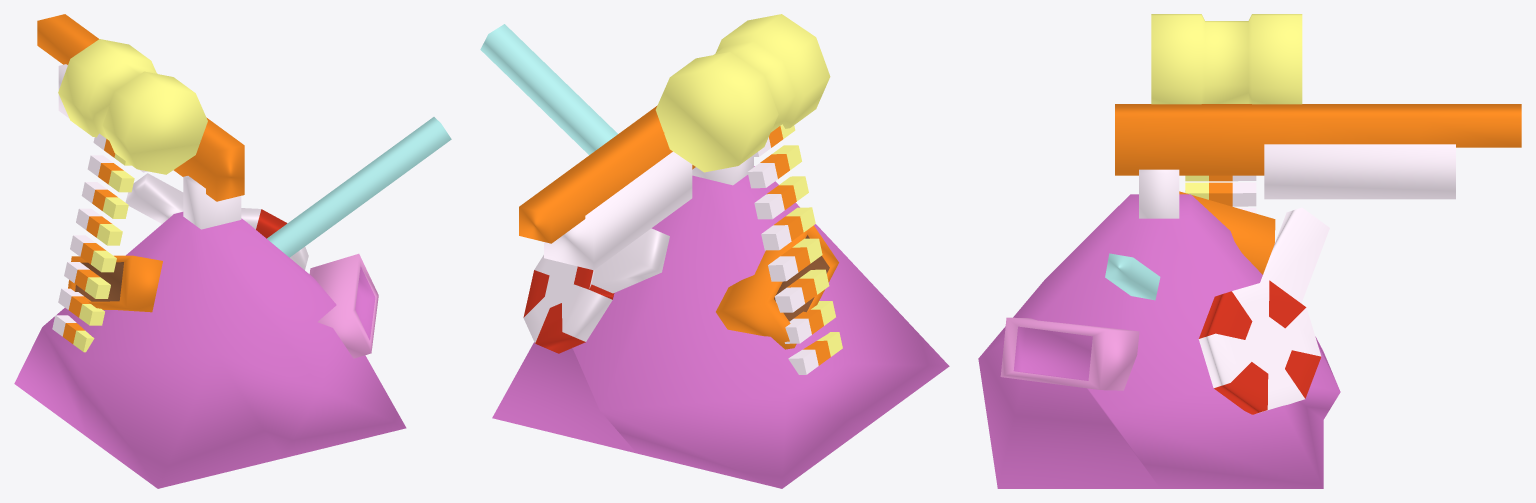
Rendered from candyCornMG.glb.
The picture shows the model from 3 angles, left to right: view 1: azimuth 30°, elevation 25°; view 2: azimuth 150°, elevation 25°; view 3: azimuth 270°, elevation 25°; orthographic projection. The views are drawn at different scales.
Visible parts, largest first — view 1: candyMountain, gunDrum, candyCornAmmo, stick, gunBase, pinkBrick, orangeBrick, lolipop, gunConnector; view 2: candyMountain, gunDrum, candyCornAmmo, lolipop, gunBase, gunGrip, stick, orangeBrick, gunConnector; view 3: candyMountain, gunBase, lolipop, gunDrum, gunGrip, pinkBrick, orangeBrick, gunConnector, candyCornAmmo, stick.
Boxes of the visible parts, x1,y1,x2,y2 form: candyMountain: (14,212,406,488); gunDrum: (58,39,207,174); candyCornAmmo: (52,133,134,352); stick: (267,117,451,257); gunBase: (37,14,244,201); pinkBrick: (309,253,378,358); orangeBrick: (68,255,162,312); lolipop: (125,173,308,269); gunConnector: (183,176,241,229); candyMountain: (492,166,949,488); gunDrum: (655,14,830,172); candyCornAmmo: (747,124,842,374); lolipop: (523,228,669,353); gunBase: (519,105,695,243); gunGrip: (544,151,692,270); stick: (480,24,617,155); orangeBrick: (716,225,838,349); gunConnector: (692,157,753,185); candyMountain: (978,194,1340,488); gunBase: (1115,104,1521,175); lolipop: (1198,207,1329,414); gunDrum: (1151,14,1302,104); gunGrip: (1264,144,1455,199); pinkBrick: (1000,317,1139,390); orangeBrick: (1179,191,1275,274); gunConnector: (1139,169,1179,218); candyCornAmmo: (1185,175,1256,213); stick: (1105,253,1160,300).
Bounding box in the file's own units: 1.53 × 1.42 × 1.85.
1 material, 1 textured.
